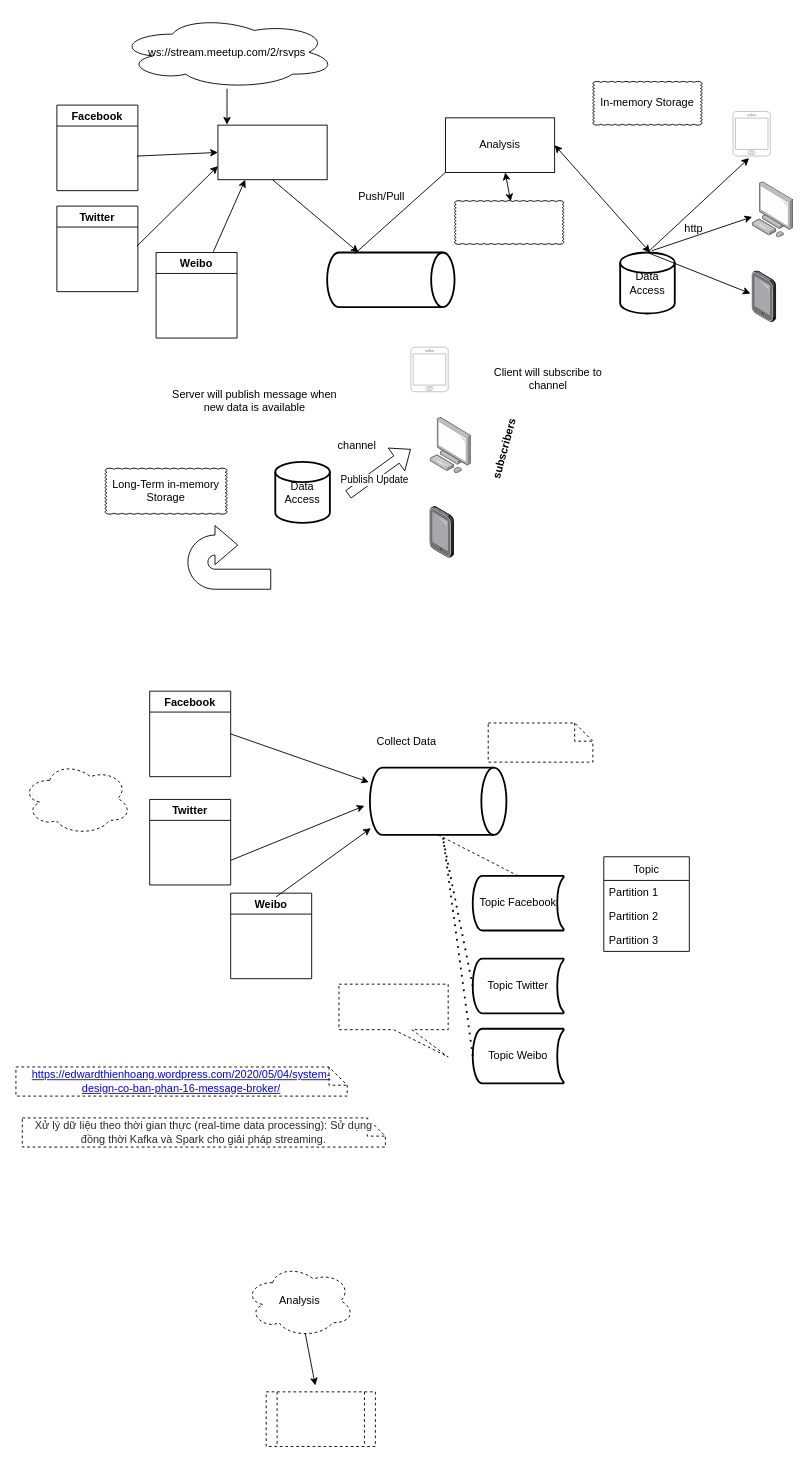
This 810x1462 diagram has some shape labels left out. Each missing label, with the centre of its shape:
"Apache Spark" goes at [320,1418].
"Colelction" goes at [272,152].
"Contains data of social media" goes at [393,1020].
"Long-Term Storage" goes at [509,222].
"Messag Queue" goes at [390,279].
"Message Borker" goes at [540,742].
"Message Queue Kafka" goes at [438,800].
"Producer" goes at [76,798].
